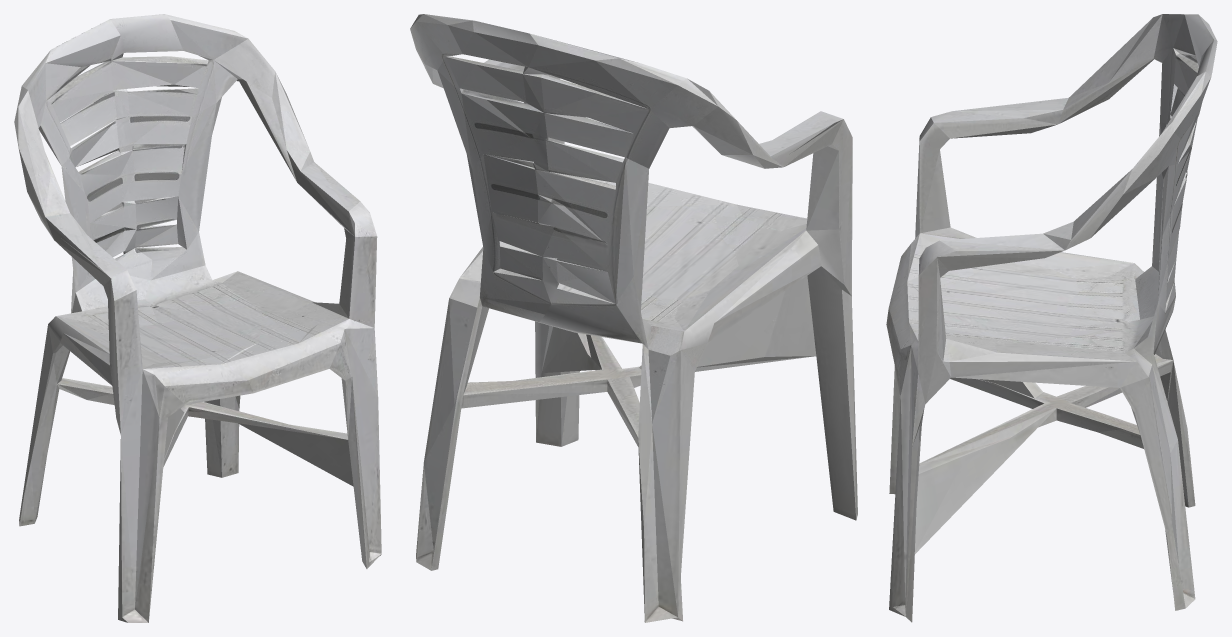
Rendered from chair.glb.
3 views of the same model, side by side, from view 1: azimuth 30°, elevation 25°; view 2: azimuth 150°, elevation 25°; view 3: azimuth 270°, elevation 25° (orthographic). The views are drawn at different scales.
Bounding box in the file's own units: 1.14 × 1.9 × 1.11.
Materials: 1 (1 with a texture image).
